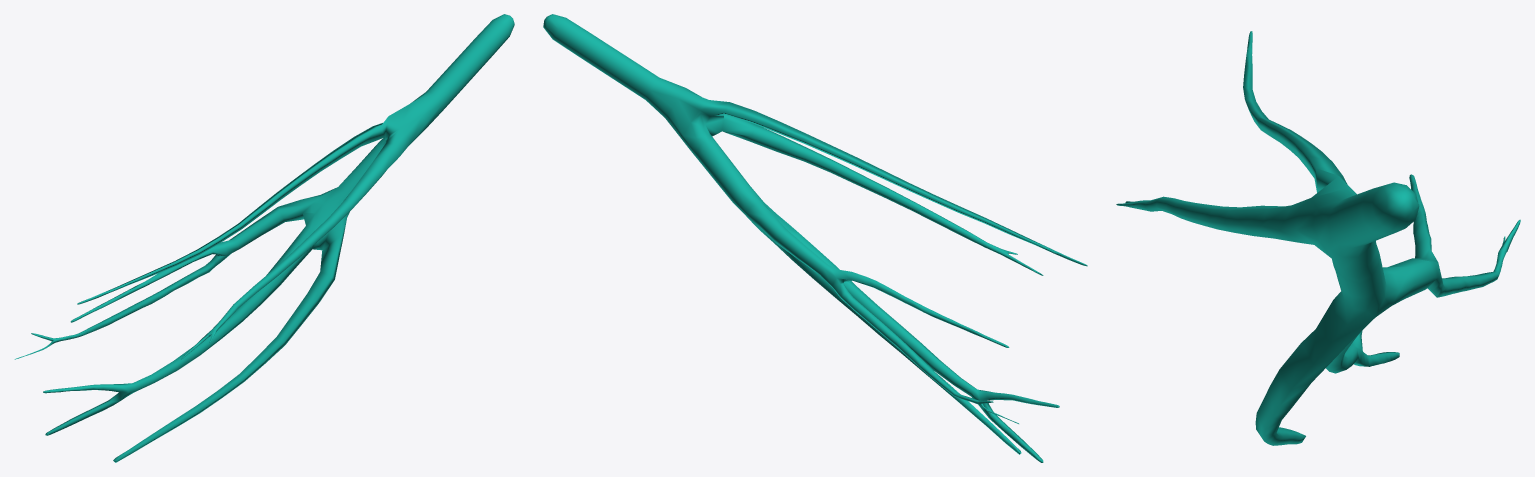
File: Olfactory_nerve_L.glb
3 views of the same model, side by side, from view 1: azimuth 30°, elevation 25°; view 2: azimuth 150°, elevation 25°; view 3: azimuth 270°, elevation 25° (orthographic). The views are drawn at different scales.
Parts seen in each view (by area): view 1: Olfactory_nerve_L; view 2: Olfactory_nerve_L; view 3: Olfactory_nerve_L.
Boxes of the visible parts, x1,y1,x2,y2 form: Olfactory_nerve_L: (14,14,514,462); Olfactory_nerve_L: (543,14,1087,462); Olfactory_nerve_L: (1116,31,1520,445).
Bounding box in the file's own units: 0.0346 × 0.0228 × 0.0127.
Materials: 1 (1 with a texture image).
